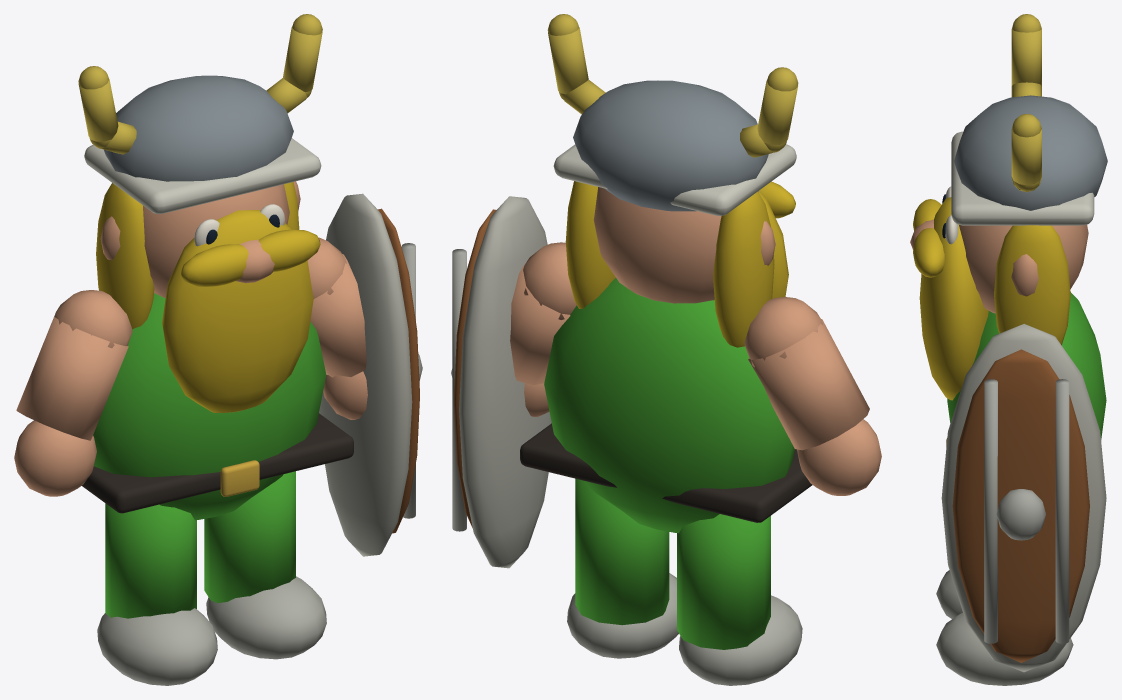
The model's file is wurstii-olaf.glb.
3 renders of one model, left to right at view 1: azimuth 30°, elevation 25°; view 2: azimuth 150°, elevation 25°; view 3: azimuth 270°, elevation 25°, orthographic. The views are drawn at different scales.
Parts seen in each view (by area): view 1: wurstii-olaf_geometry; view 2: wurstii-olaf_geometry; view 3: wurstii-olaf_geometry.
Boxes of the visible parts, bbox=[...] form: wurstii-olaf_geometry: bbox=[14, 14, 422, 685]; wurstii-olaf_geometry: bbox=[451, 14, 881, 685]; wurstii-olaf_geometry: bbox=[910, 14, 1107, 685].
Size of the model in its own units: 0.54 by 0.7787 by 0.2371.
